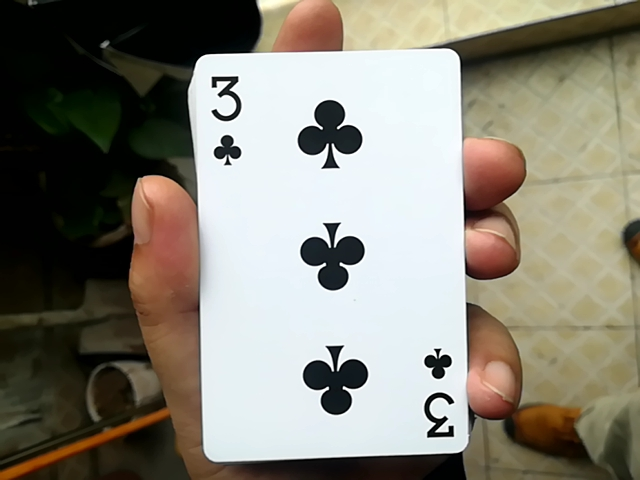mh 3: (176, 41, 472, 459)
